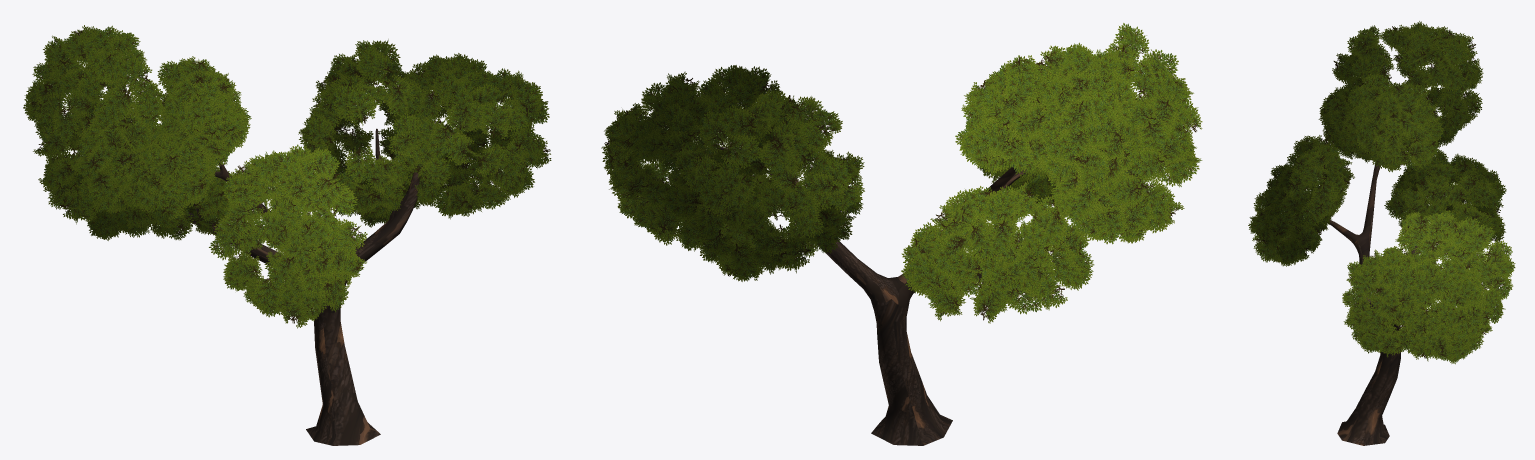
File: Arvore_grande.fbx
The picture shows the model from 3 angles, left to right: view 1: azimuth 30°, elevation 25°; view 2: azimuth 150°, elevation 25°; view 3: azimuth 270°, elevation 25°; orthographic projection. The views are drawn at different scales.
Visible parts, largest first — view 1: Folhas, Tronco; view 2: Folhas, Tronco; view 3: Folhas, Tronco.
Part boxes in pixels (<box>): Folhas: <box>23,25,551,328</box>; Tronco: <box>185,128,452,445</box>; Folhas: <box>601,23,1202,323</box>; Tronco: <box>717,146,1105,445</box>; Folhas: <box>1248,21,1515,364</box>; Tronco: <box>1306,162,1418,445</box>.
Size of the model in its own units: 2093 by 1675 by 1234.
